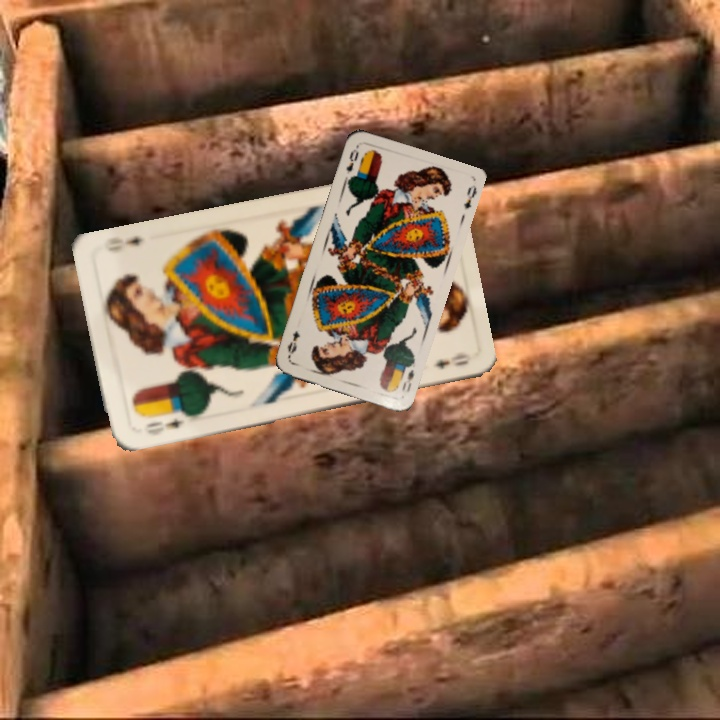EO: (139, 414, 186, 434), (342, 142, 361, 176), (398, 365, 417, 394)
